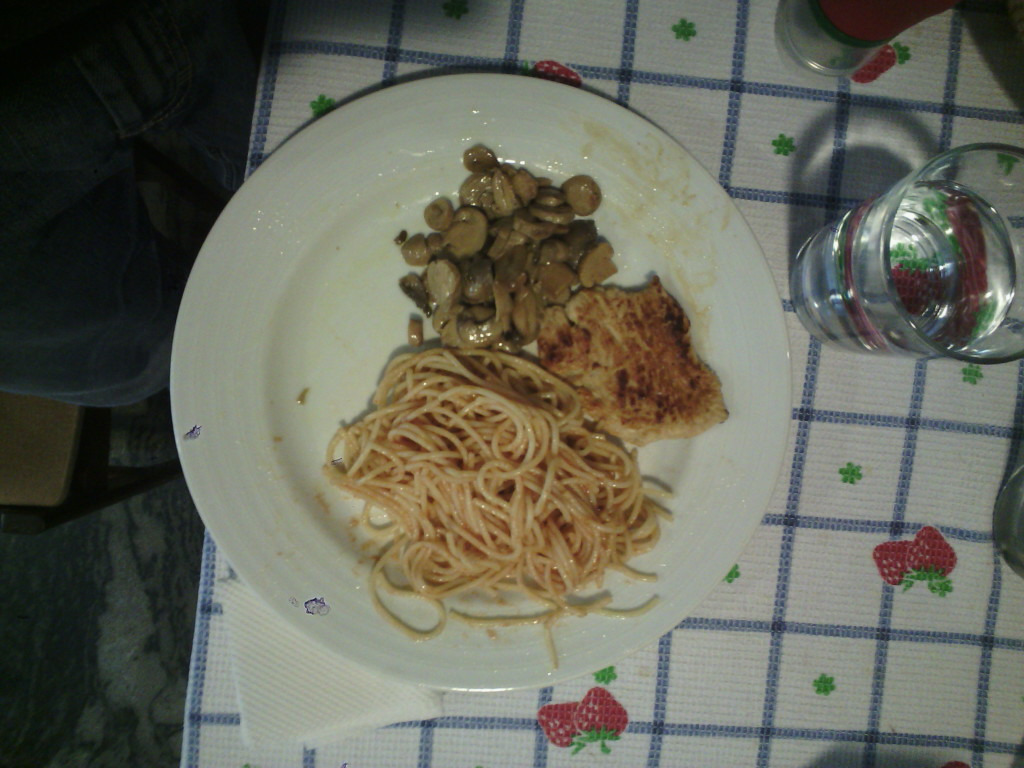61-80: (171, 77, 790, 697)
